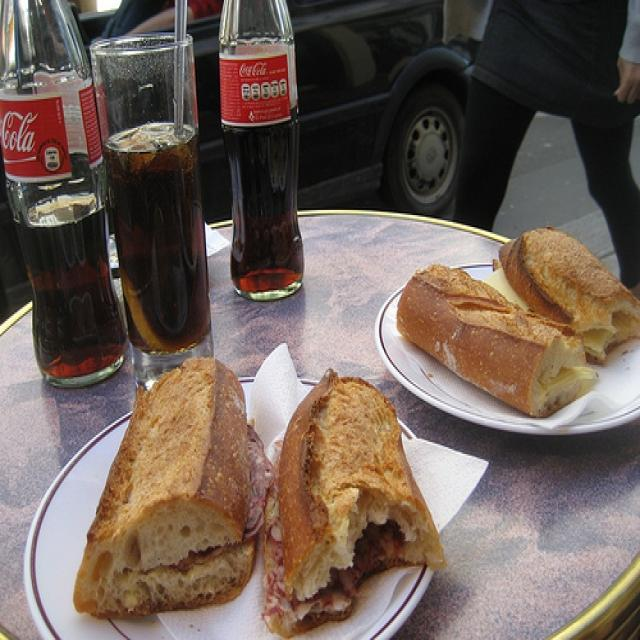Vehicle: (284, 4, 468, 208)
